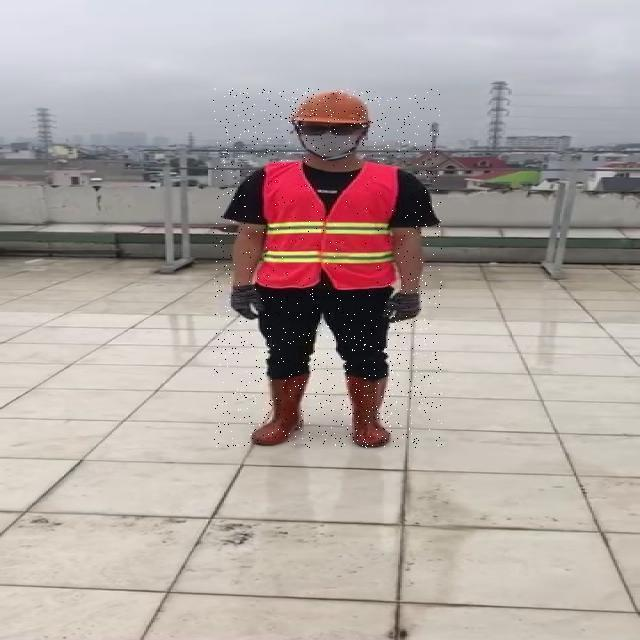gloves: (382, 289, 421, 322), (230, 283, 262, 320)
goggles: (298, 122, 363, 137)
helmet: (290, 90, 376, 126)
safety_vest: (250, 162, 400, 290)
